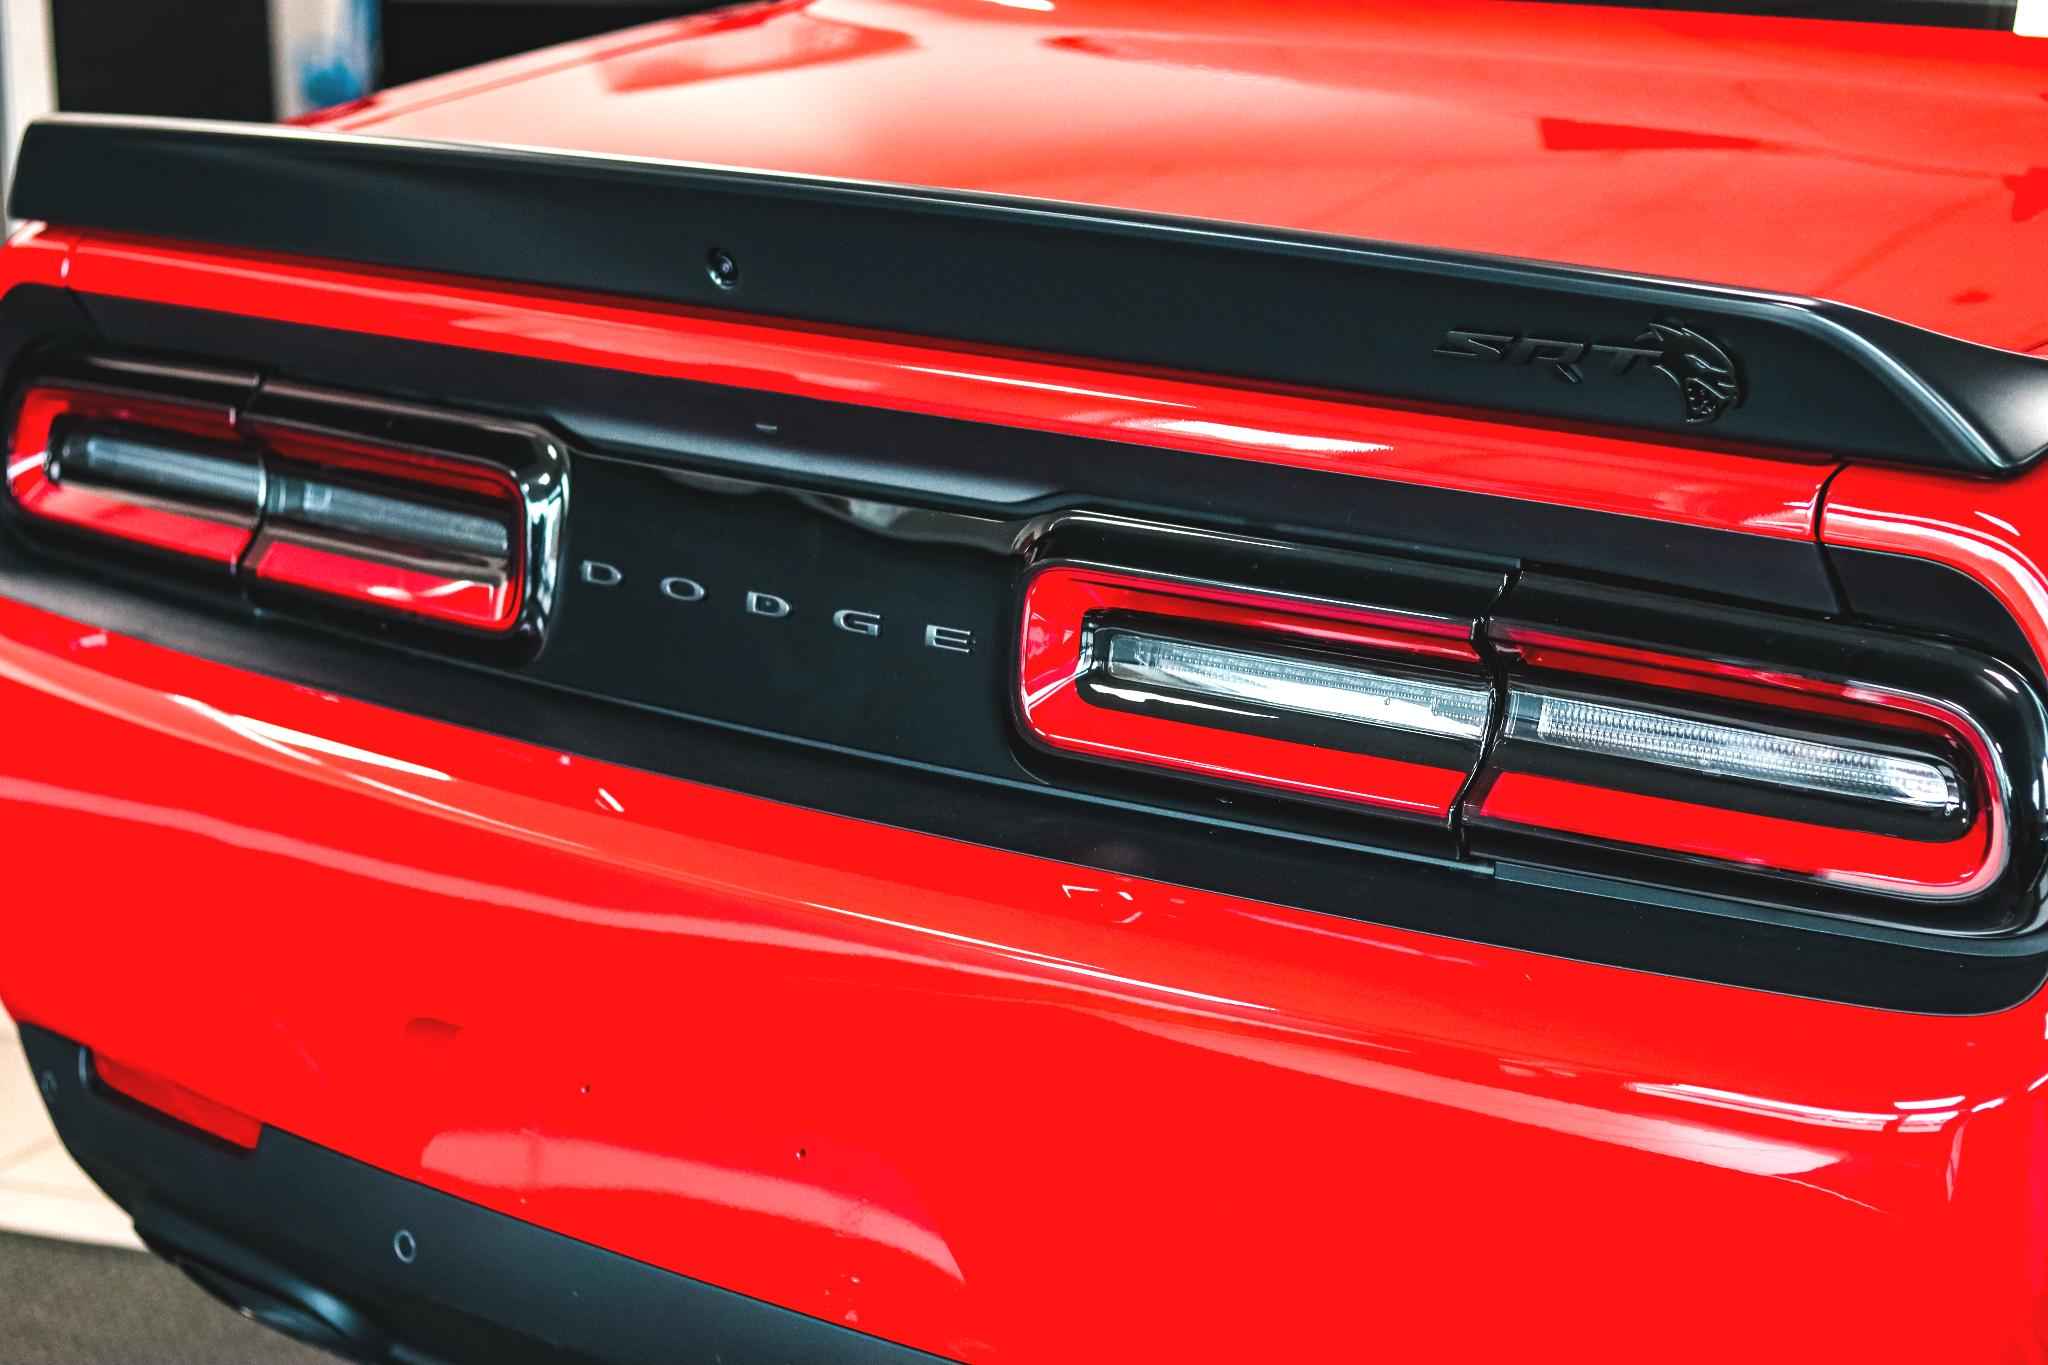dodge: (525, 489, 1006, 705)
